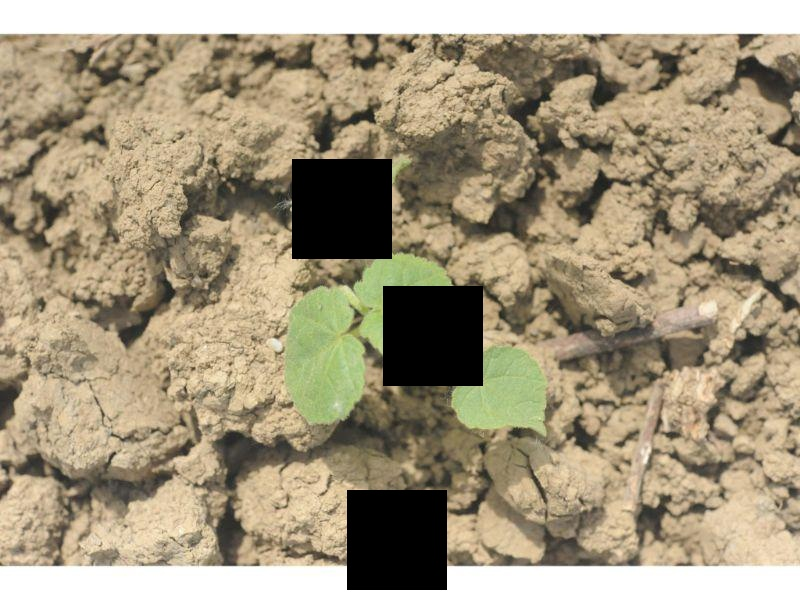velvet: (282, 158, 548, 441)
